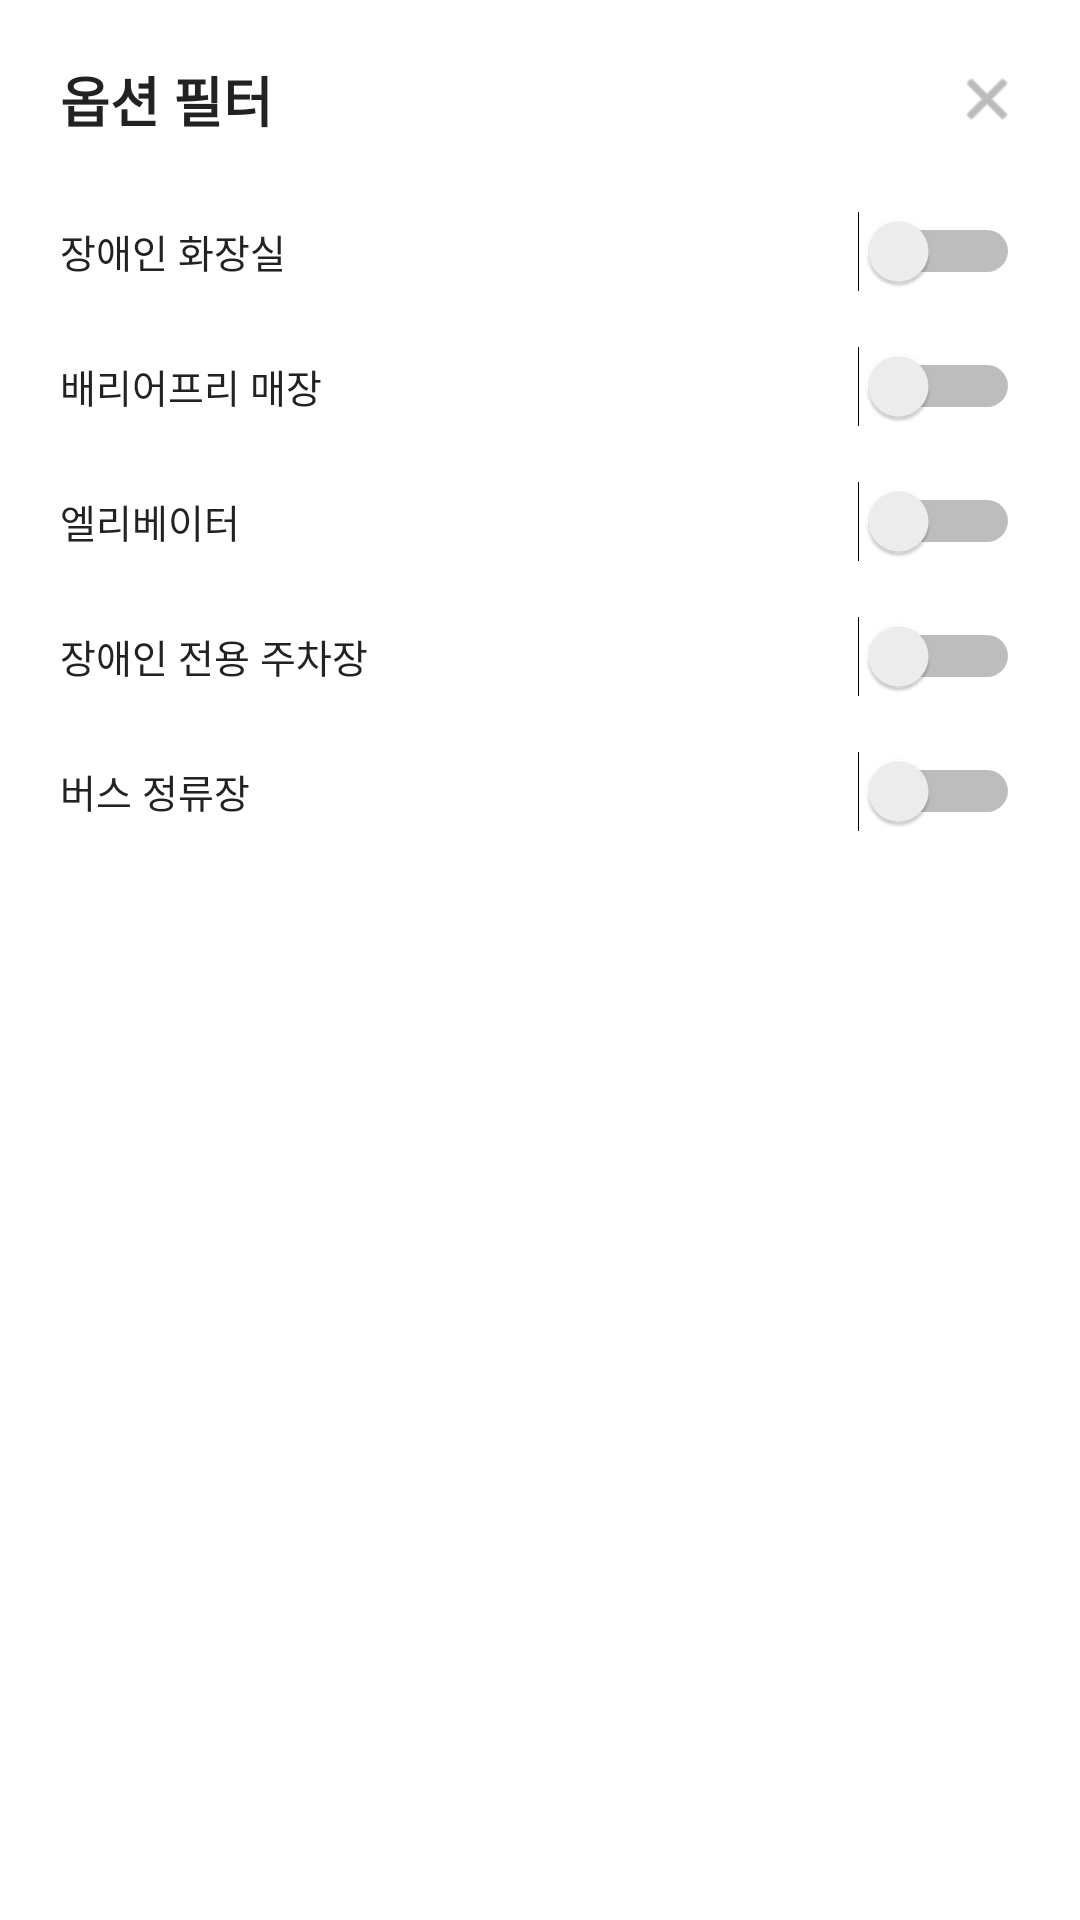

Icons on this 1080×1920 Android screen, each with its box as (x1=x1, y1=y1, x2=x2, y2=y2):
close clear cancel: (x1=967, y1=79, x2=1007, y2=119)
